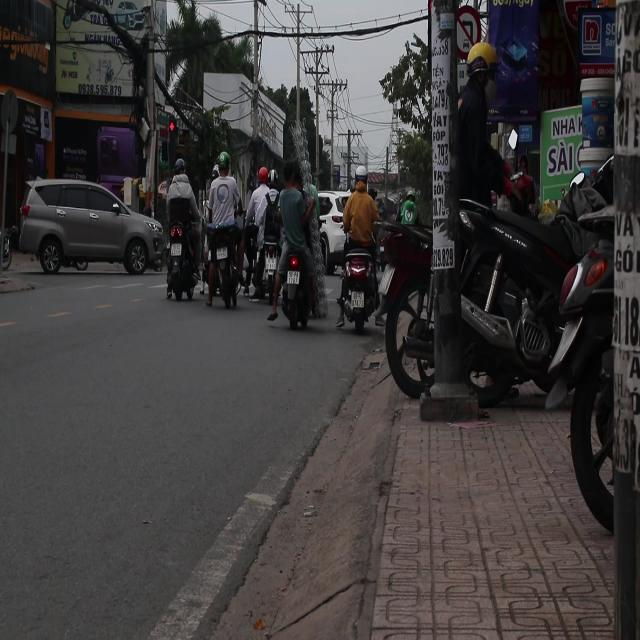car: (16, 178, 163, 278), (317, 191, 349, 271)
motorbike: (375, 218, 435, 397), (335, 246, 382, 333), (211, 223, 247, 312), (164, 220, 202, 301), (284, 243, 312, 335), (263, 237, 281, 313)
